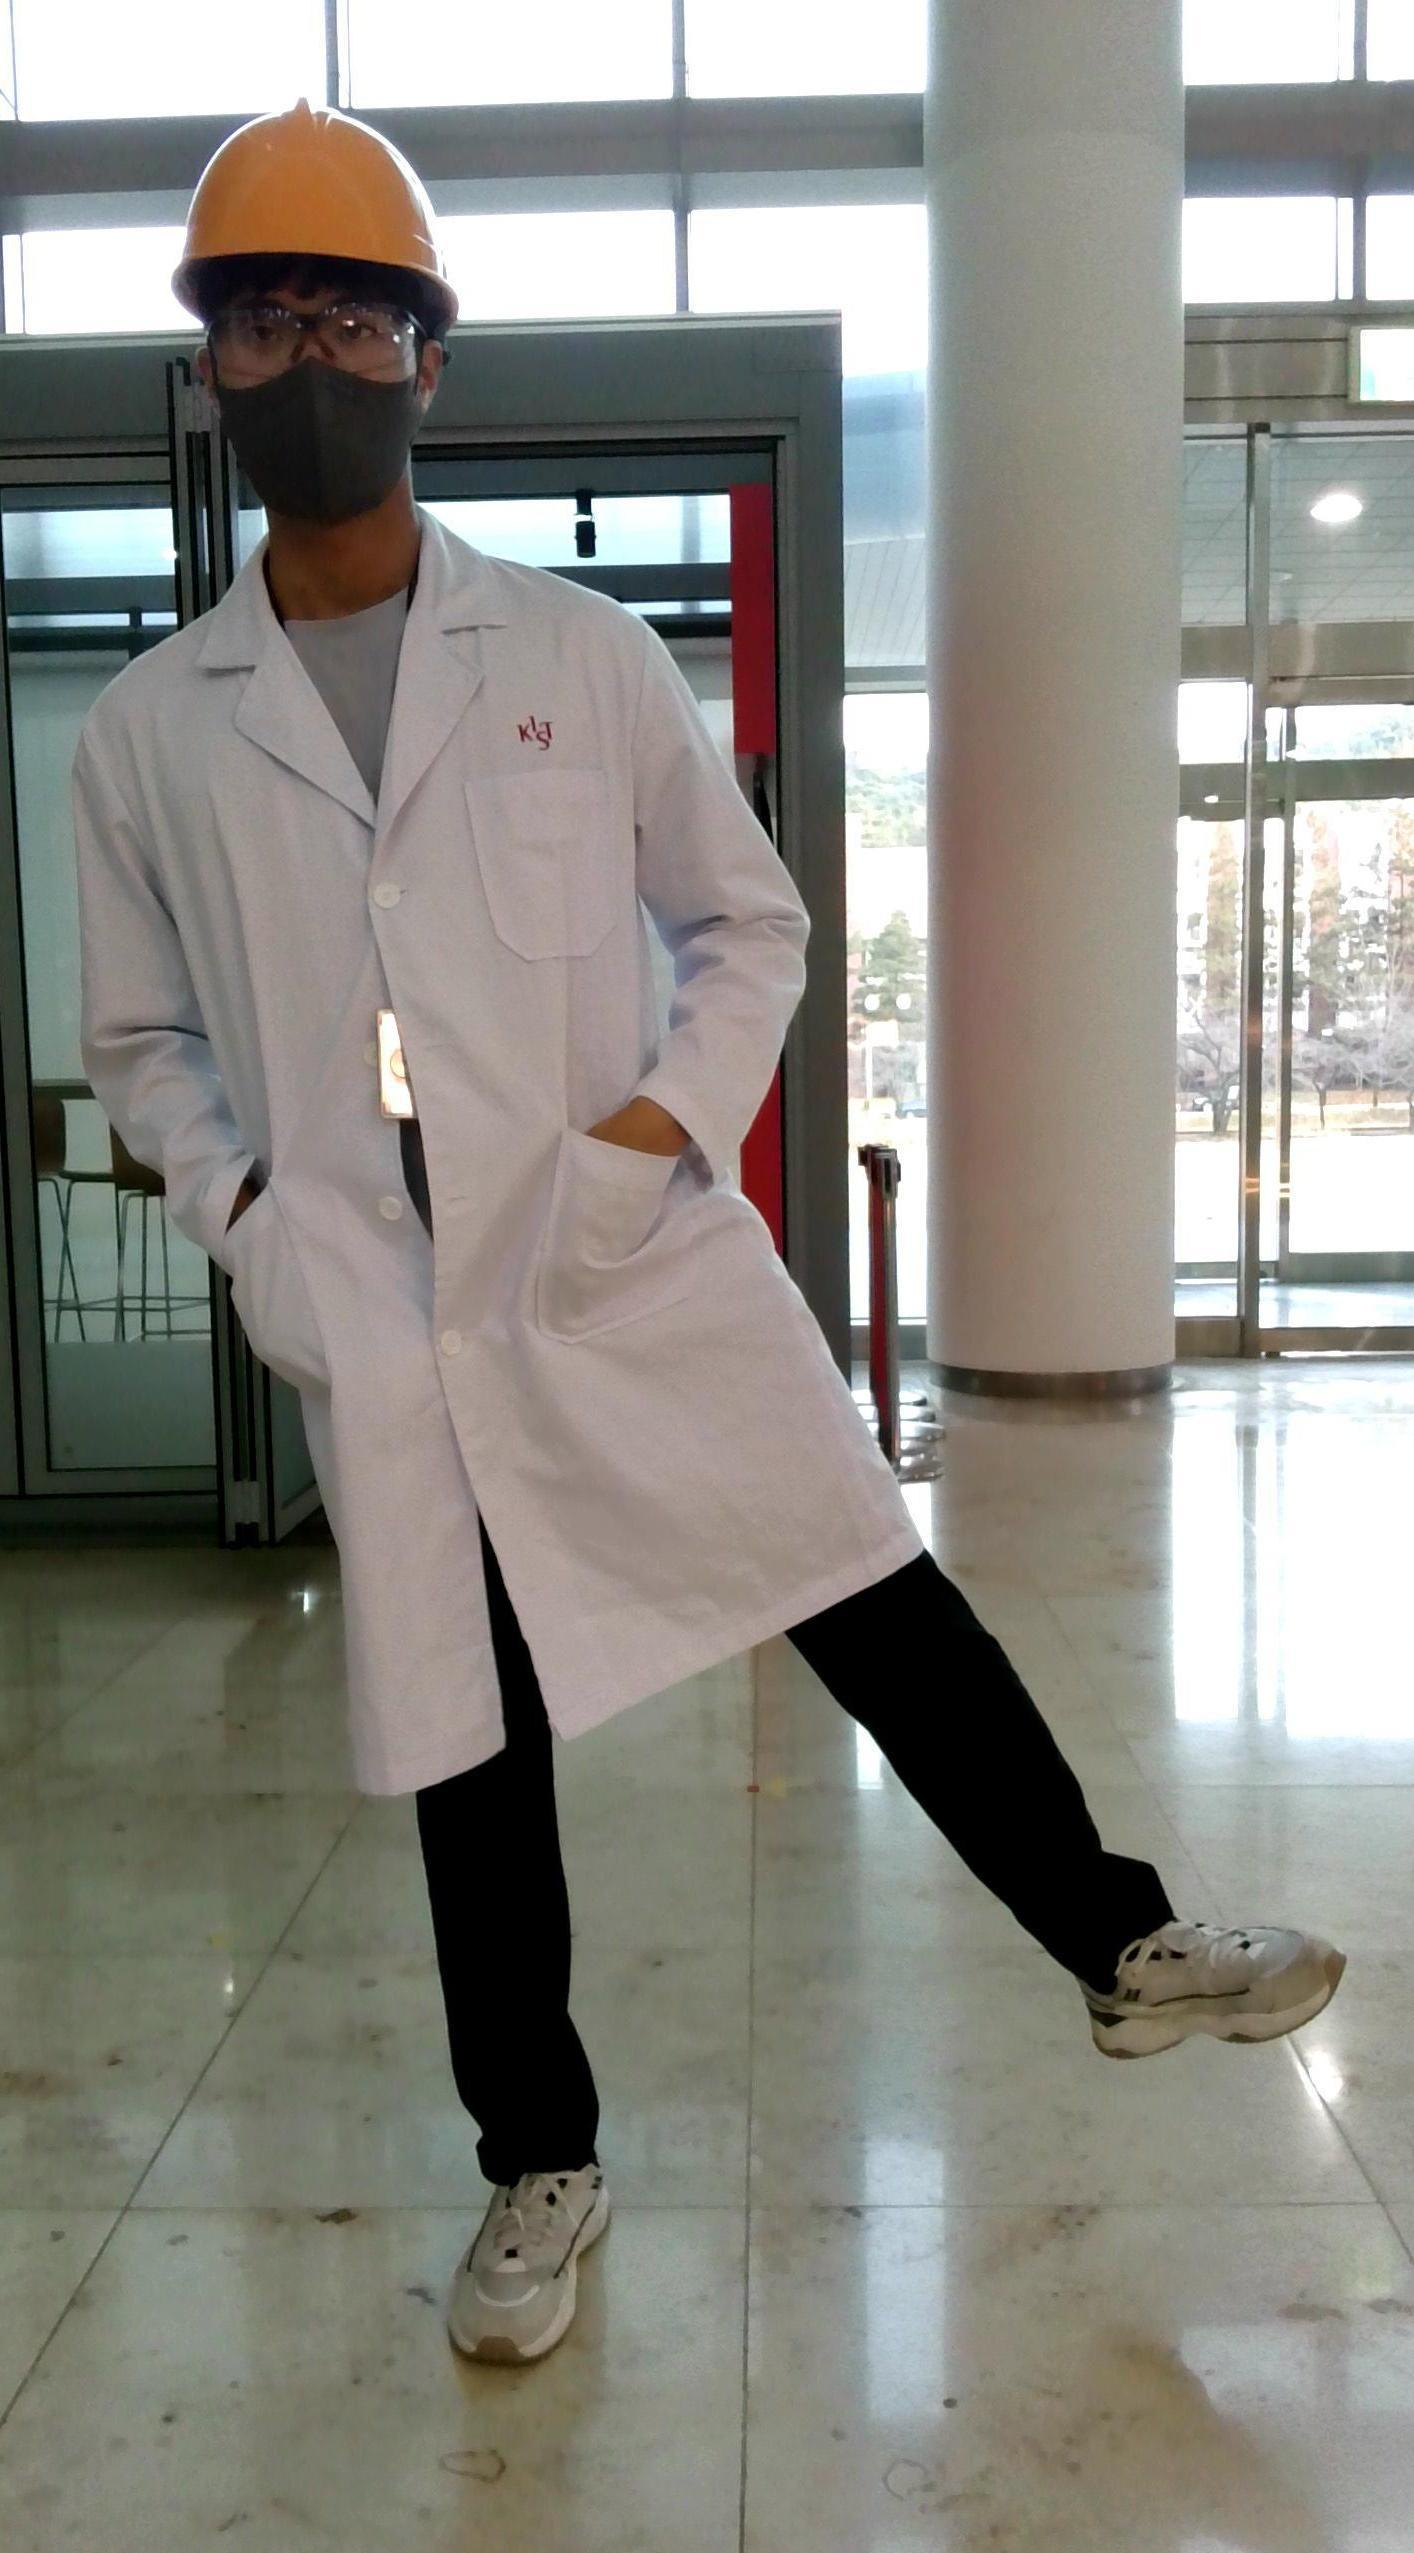lab_coat: (9, 611, 881, 1569)
